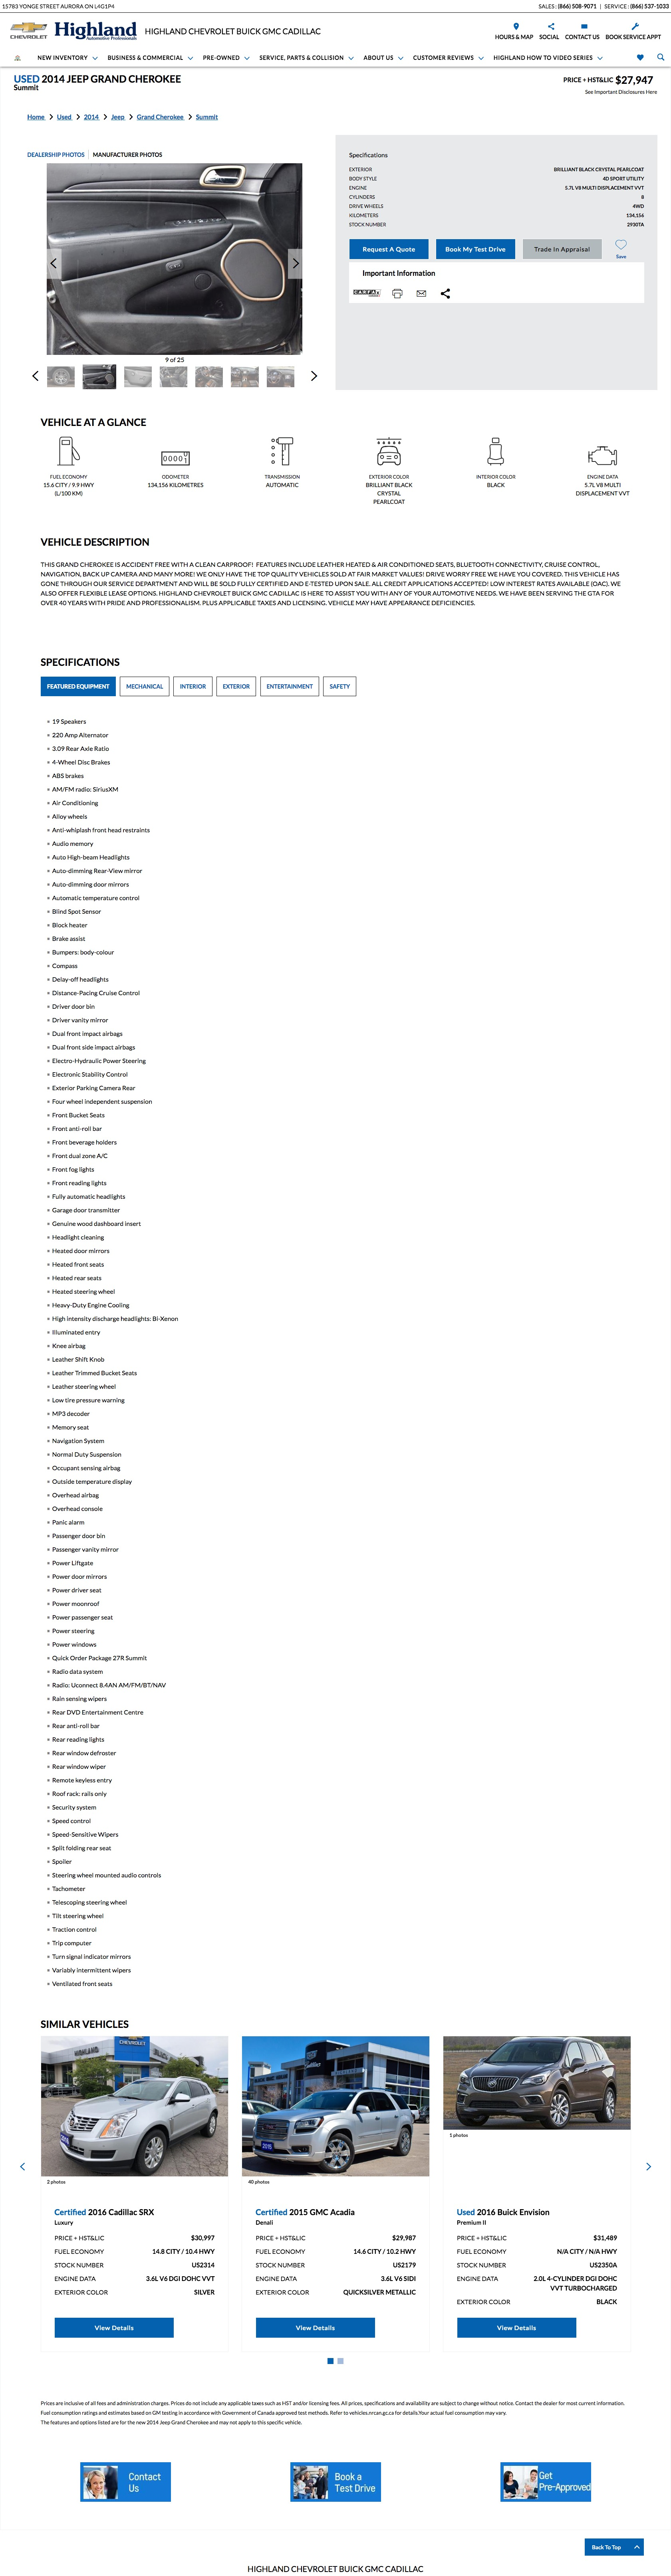car: (311, 371, 317, 381)
